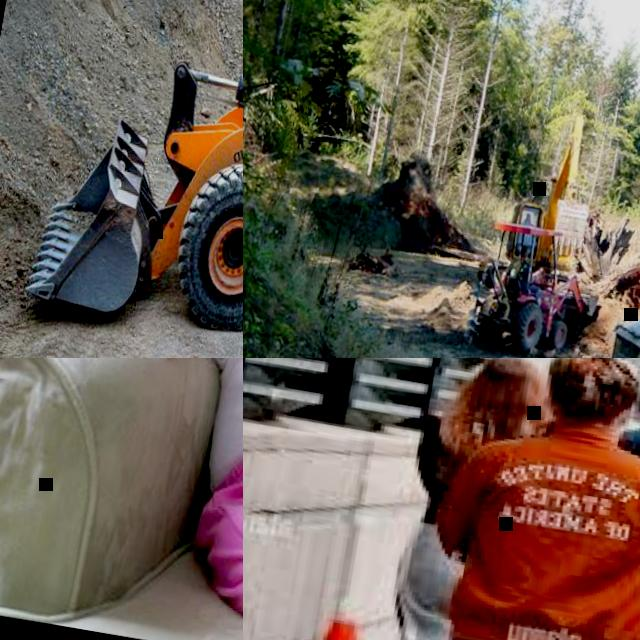NO-Hardhat: (551, 358, 640, 420), (465, 358, 540, 414)
NO-Safety Vest: (445, 422, 640, 640), (418, 413, 524, 533), (206, 358, 243, 487)
Person: (368, 358, 640, 640), (351, 358, 565, 640), (94, 358, 243, 640), (538, 358, 640, 640), (521, 213, 533, 226)
Safety Vest: (522, 219, 531, 226)
vehicle: (3, 0, 243, 358), (499, 108, 621, 284), (462, 216, 608, 358)
